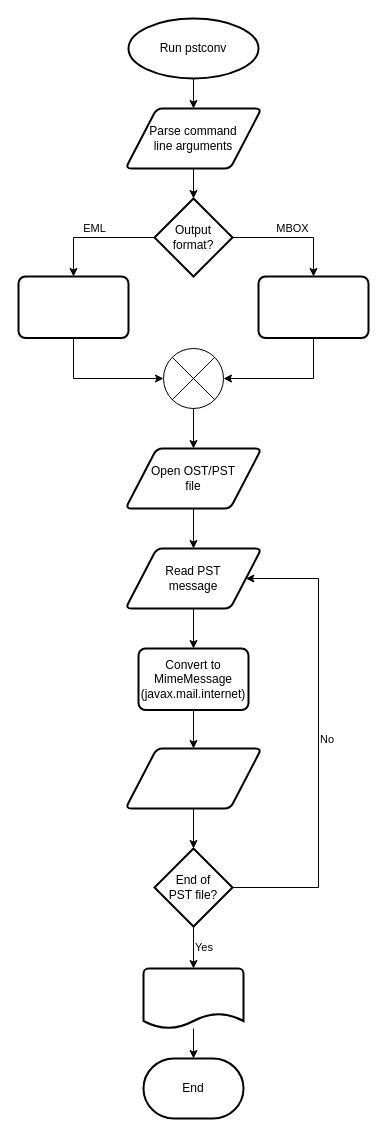
Image size: 386x1136. Some labels were removed from this diagram. The box of each missing label's shape, as (x1, y1, x2, y2) in pixels:
Converted mailbox directory: (142, 967, 244, 1029)
Create EML Store (javax.mail.Store): (17, 275, 129, 338)
Create MBOX Store (javax.mail.Store): (257, 275, 369, 338)
Write MimeMessage to Store: (124, 747, 262, 809)
